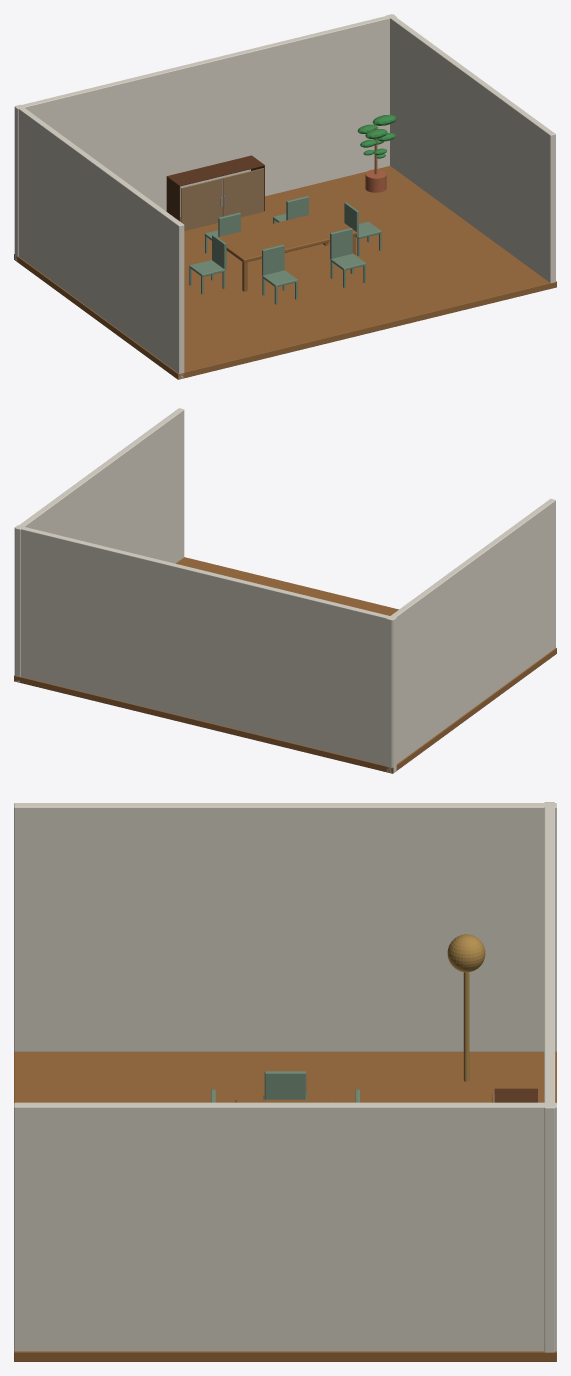
The picture shows the model from 3 angles, top to bottom: view 1: azimuth 30°, elevation 25°; view 2: azimuth 150°, elevation 25°; view 3: azimuth 270°, elevation 25°; orthographic projection. The views are drawn at different scales.
Parts seen in each view (by area): view 1: rear_wall.wall, floor.structure, left_wall.wall, right_wall.wall, dining_table.top, sideboard.door_l, sideboard.door_r, sideboard.top, chair_2.back, chair_1.back, sideboard.left, plant.pot (+2 smaller); view 2: rear_wall.wall, left_wall.wall, right_wall.wall, floor.structure; view 3: right_wall.wall, left_wall.wall, floor.structure, rear_wall.wall, chair_5.back, floor_lamp.shade, floor_lamp.stand.
Part boxes in pixels (x1,y1,x2,y2): rear_wall.wall: (14, 14, 396, 261); floor.structure: (14, 166, 556, 379); left_wall.wall: (15, 104, 184, 378); right_wall.wall: (386, 14, 555, 283); dining_table.top: (218, 210, 356, 262); sideboard.door_l: (181, 178, 222, 230); sideboard.door_r: (222, 168, 263, 217); sideboard.top: (167, 155, 264, 186); chair_2.back: (330, 228, 352, 258); chair_1.back: (262, 244, 284, 275); sideboard.left: (166, 176, 180, 221); plant.pot: (365, 169, 386, 192); rear_wall.wall: (14, 525, 396, 772); left_wall.wall: (386, 498, 555, 772); right_wall.wall: (15, 408, 184, 682); floor.structure: (14, 557, 556, 773); right_wall.wall: (14, 1102, 556, 1351); left_wall.wall: (14, 803, 556, 1051); floor.structure: (14, 1051, 556, 1361); rear_wall.wall: (544, 802, 555, 1352); chair_5.back: (264, 1071, 306, 1099); floor_lamp.shade: (447, 934, 485, 972); floor_lamp.stand: (463, 972, 469, 1081).
Size of the model in its own units: 8 by 3.1 by 6.
